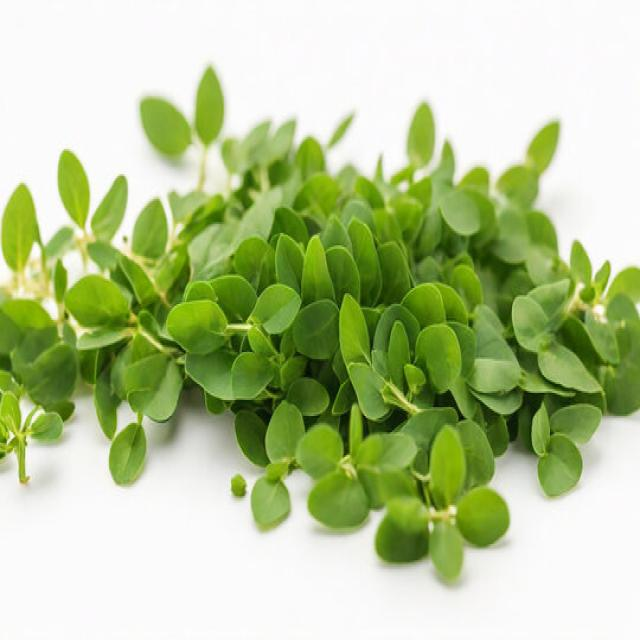Fenugreek: (2, 57, 640, 578)
